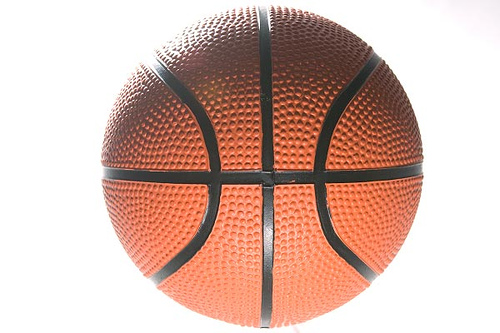basketball: (104, 6, 426, 328)
